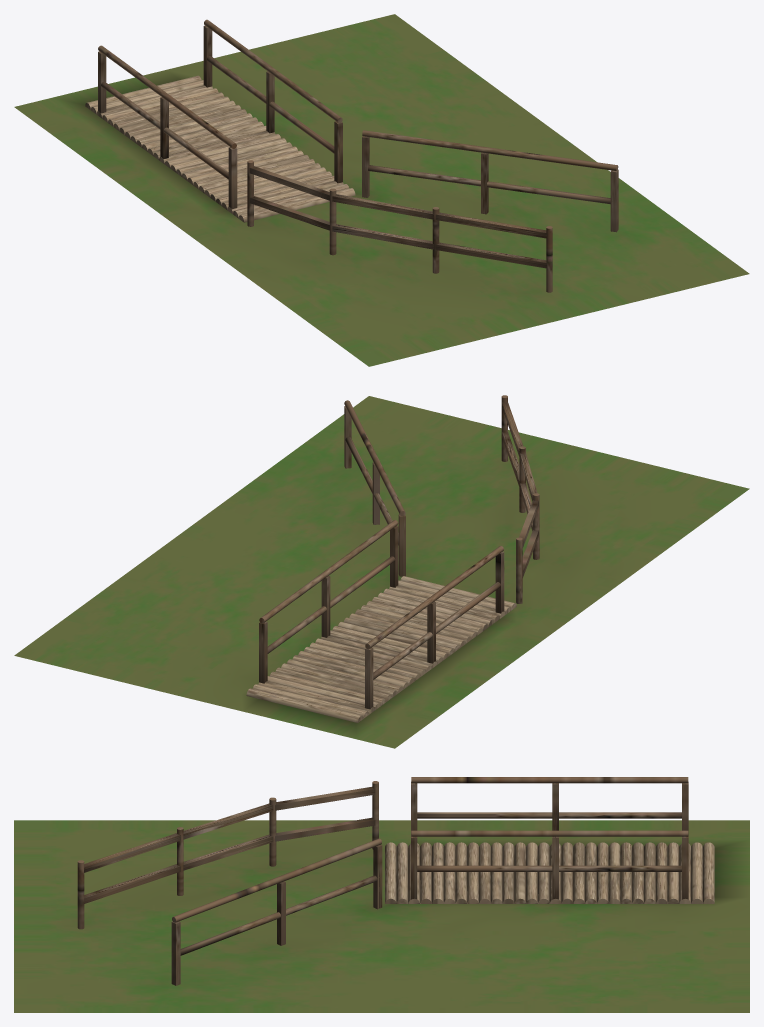
Rendered from puente-principal.glb.
The picture shows the model from 3 angles, top to bottom: view 1: azimuth 30°, elevation 25°; view 2: azimuth 150°, elevation 25°; view 3: azimuth 270°, elevation 25°; orthographic projection. The views are drawn at different scales.
Parts seen in each view (by area): view 1: Mesh_0; view 2: Mesh_0; view 3: Mesh_0.
Part boxes in pixels (box(x1,y1,x2,y2)): Mesh_0: box(14, 14, 749, 366); Mesh_0: box(14, 395, 749, 748); Mesh_0: box(14, 777, 749, 1012).
Size of the model in its own units: 15.87 by 2.96 by 25.62.
Materials: 3 (3 with a texture image).
